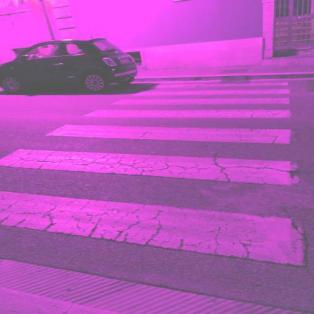Paso de Cebra: (44, 106, 294, 149)
